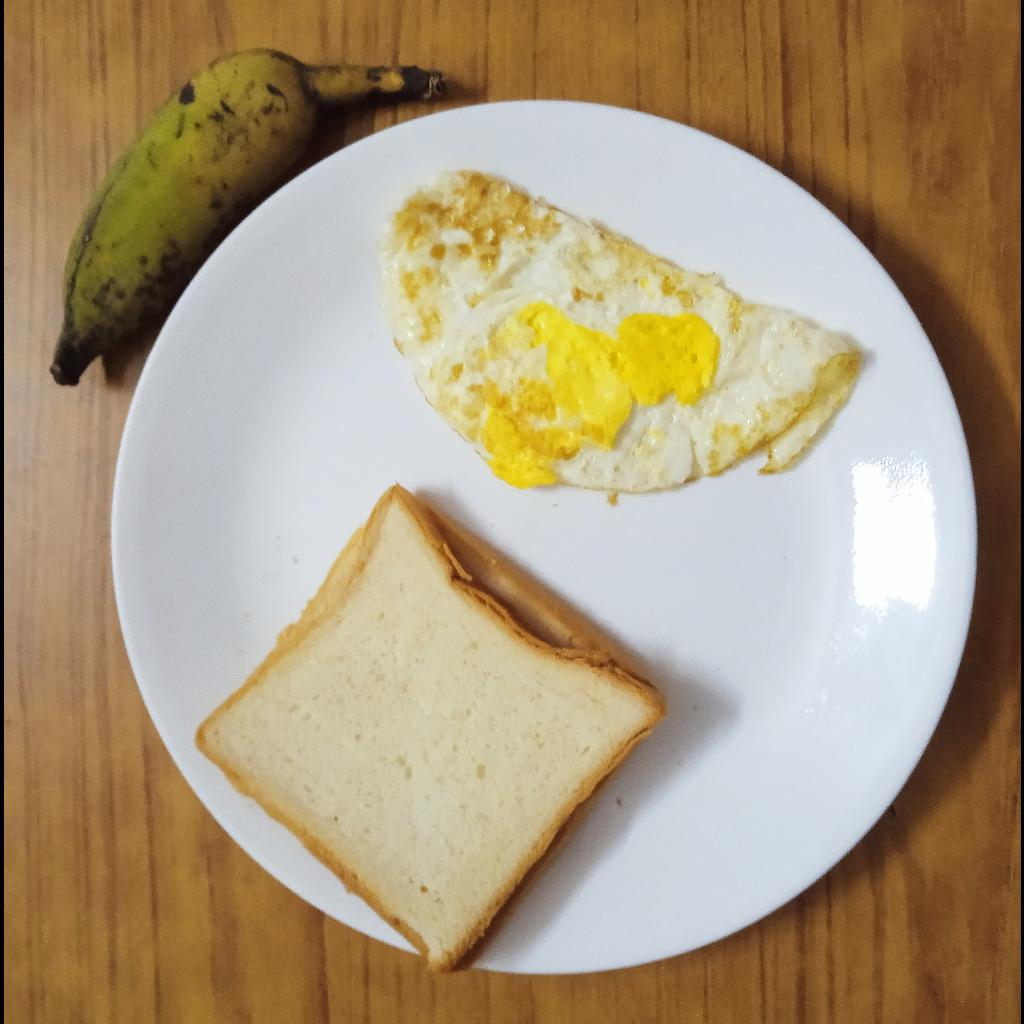banana: (53, 47, 442, 386)
bread: (190, 484, 662, 974)
egg-poached: (379, 173, 862, 490)
